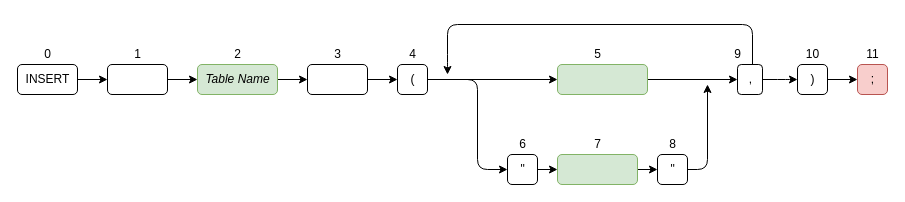
Some shapes in this 905 by 202 pixel diagram are drawn without their labels. Here are the shapes that lost their labels. From the top down, the centre of each, then its label:
At point (137, 79): "INTO".
At point (337, 79): "VALUES".
At point (602, 79): "Numeric Value".
At point (597, 169): "String Value".
